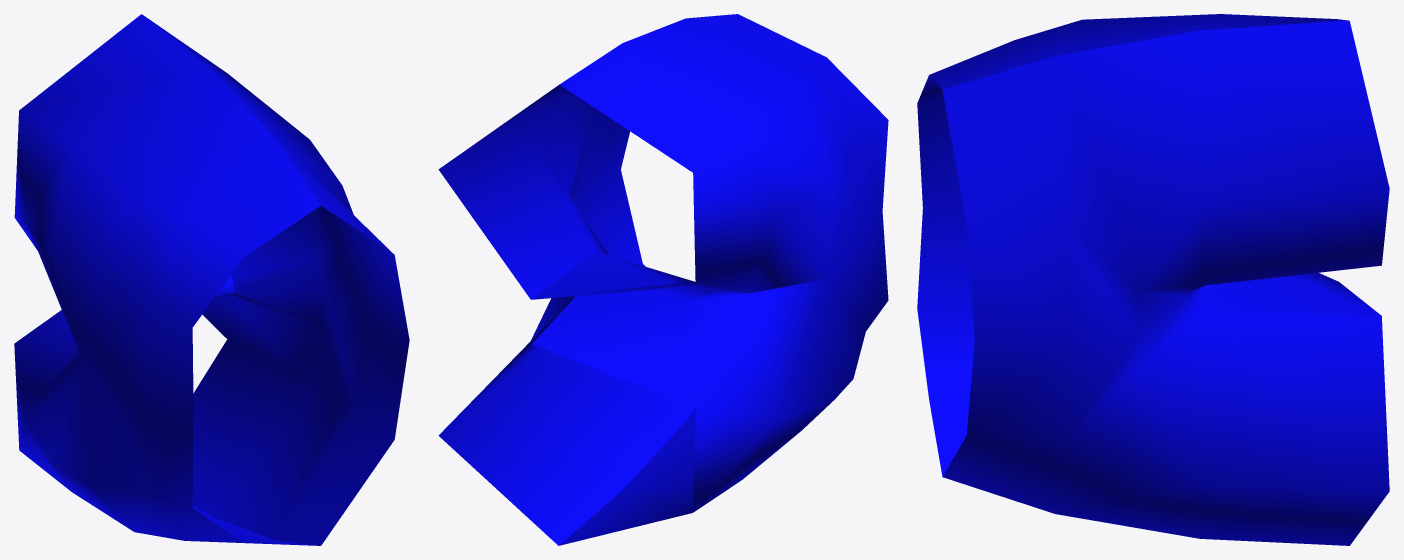
3 renders of one model, left to right at view 1: azimuth 30°, elevation 25°; view 2: azimuth 150°, elevation 25°; view 3: azimuth 270°, elevation 25°, orthographic. The views are drawn at different scales.
Parts seen in each view (by area): view 1: rg_pelvies_001; view 2: rg_pelvies_001; view 3: rg_pelvies_001.
Part boxes in pixels (<box>): rg_pelvies_001: <box>14,14,409,545</box>; rg_pelvies_001: <box>438,14,888,545</box>; rg_pelvies_001: <box>917,14,1389,545</box>.
Bounding box in the file's own units: 22.47 × 34.32 × 27.99.
